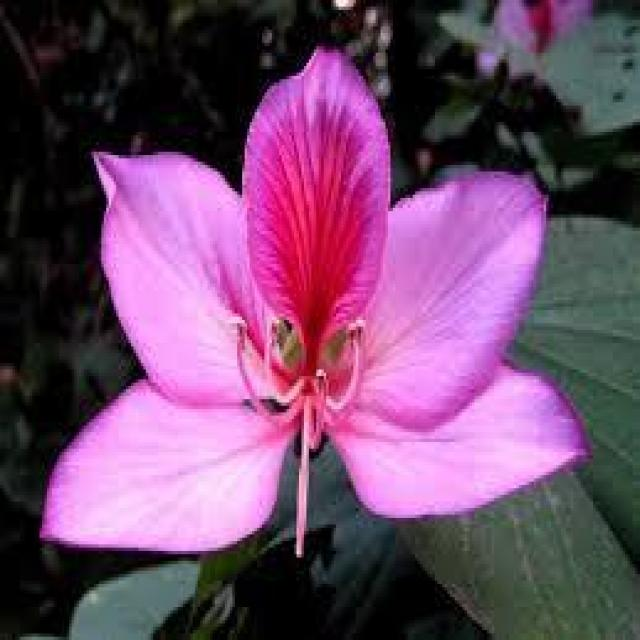organic waste: (59, 65, 586, 562)
